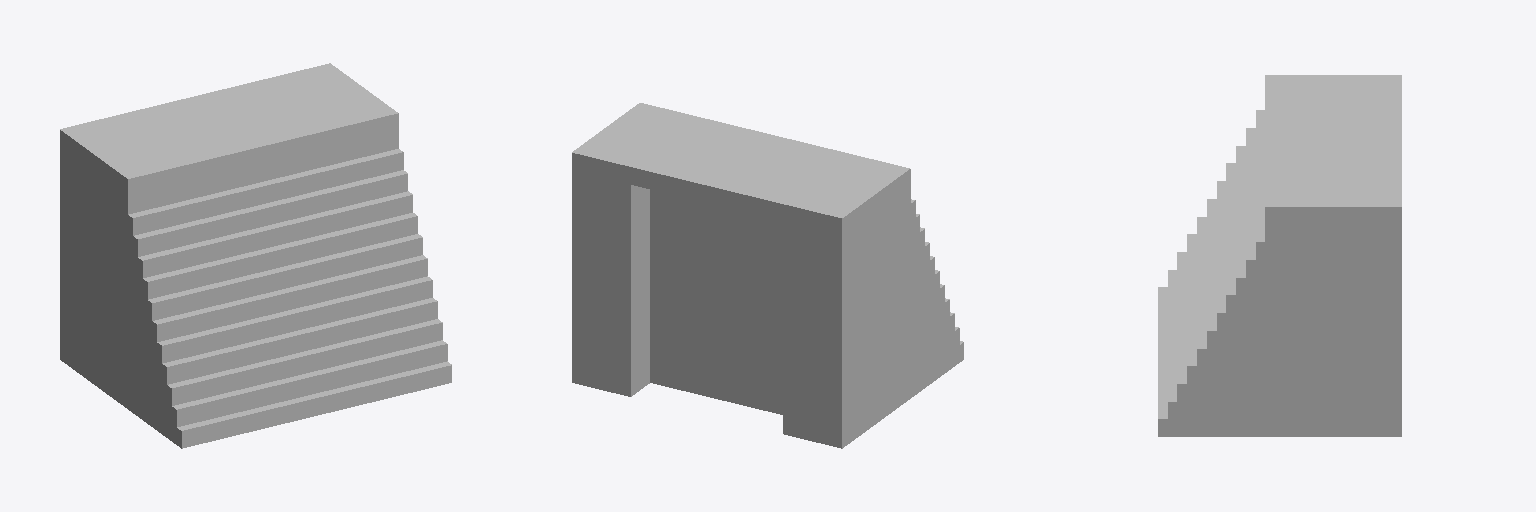
Rendered from Wall.obj.
3 views of the same model, side by side, from view 1: azimuth 30°, elevation 25°; view 2: azimuth 150°, elevation 25°; view 3: azimuth 270°, elevation 25° (orthographic).
Visible parts, largest first — view 1: object 1; view 2: object 1; view 3: object 1.
Boxes of the visible parts, x1=… form: object 1: x1=60, y1=63, x2=451, y2=448; object 1: x1=572, y1=103, x2=963, y2=448; object 1: x1=1158, y1=75, x2=1401, y2=436.
Size of the model in its own units: 3.2 by 2.6 by 2.5.